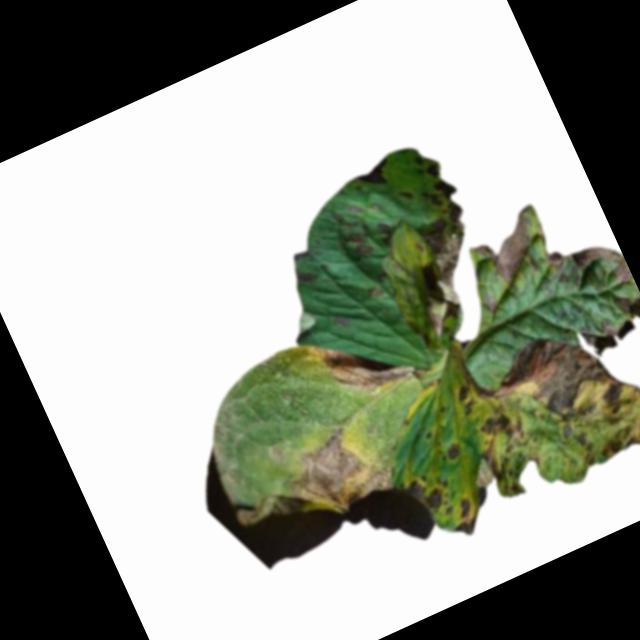Early_blight: (481, 300, 640, 496), (217, 411, 401, 552), (387, 198, 508, 336), (308, 305, 422, 408), (546, 225, 634, 310), (467, 209, 552, 293), (468, 406, 541, 503), (400, 465, 456, 517), (441, 493, 484, 542), (349, 155, 395, 193), (420, 172, 462, 210), (452, 379, 483, 416), (347, 226, 374, 258), (441, 438, 466, 463)
